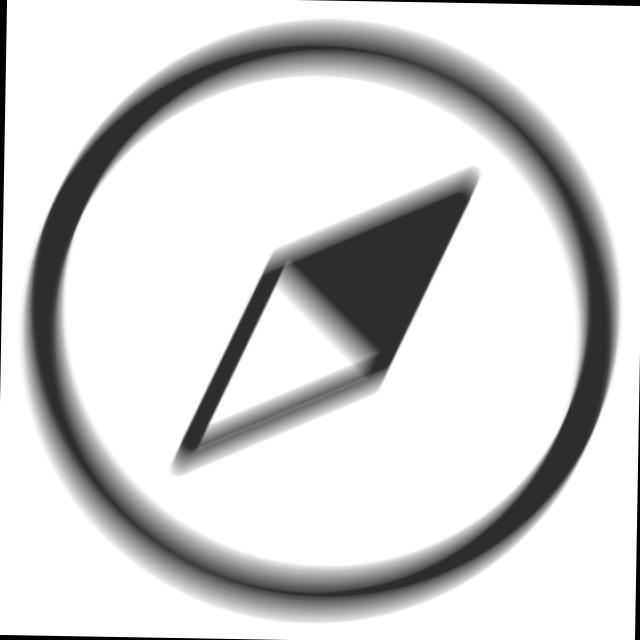compass: (7, 8, 630, 635)
